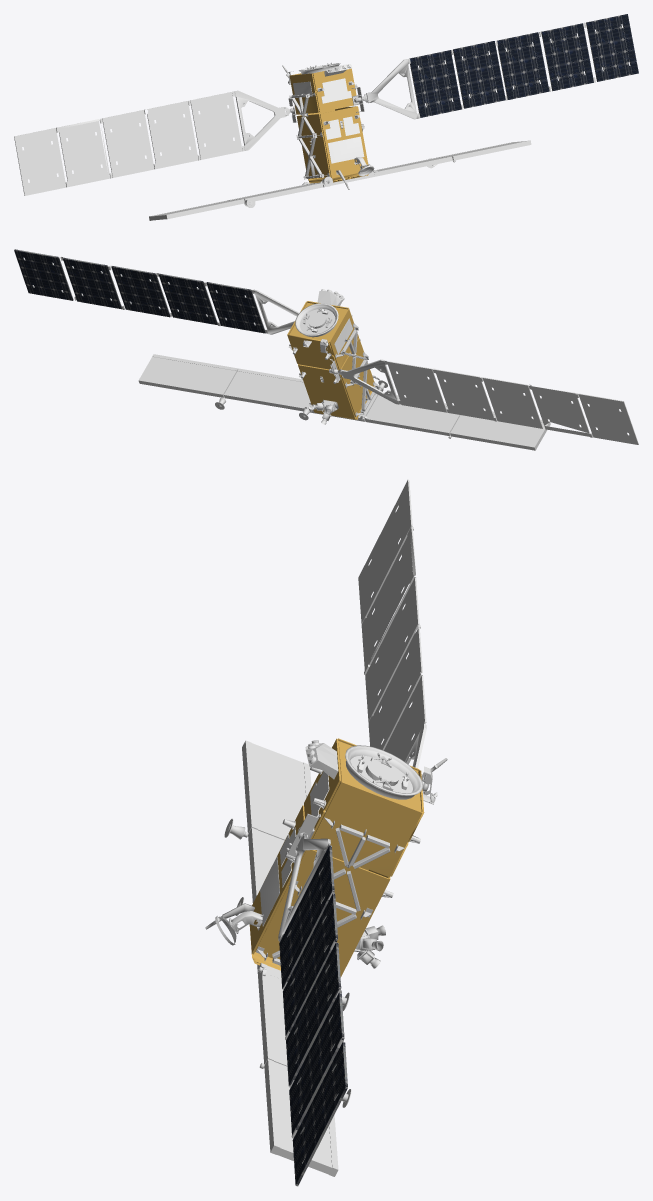
The model's file is sentinel.glb.
The picture shows the model from 3 angles, top to bottom: view 1: azimuth 30°, elevation 25°; view 2: azimuth 150°, elevation 25°; view 3: azimuth 270°, elevation 25°; orthographic projection. The views are drawn at different scales.
Parts seen in each view (by area): view 1: PANEL.002, PANEL.001, HUSK, S1, OUTSIDE PANELS, SAT RIBS; view 2: PANEL.001, PANEL.002, S1, HUSK, PLATE.001, SAT RIBS, TRI CAM, SOLAR DETECTOR; view 3: PANEL.002, PANEL.001, HUSK, S1, PLATE.001, SAT RIBS, OUTSIDE PANELS.
Part boxes in pixels (x1,y1,x2,y2): PANEL.002: (354,14,638,119); PANEL.001: (14,90,293,195); HUSK: (289,68,368,183); S1: (149,140,531,220); OUTSIDE PANELS: (293,78,364,163); SAT RIBS: (289,84,370,179); PANEL.001: (329,359,638,444); PANEL.002: (14,249,298,334); S1: (138,354,550,450); HUSK: (287,301,374,419); PLATE.001: (295,303,338,337); SAT RIBS: (289,323,378,416); TRI CAM: (312,399,338,424); SOLAR DETECTOR: (317,289,344,306); PANEL.002: (278,827,347,1186); PANEL.001: (358,479,426,768); HUSK: (249,738,424,977); S1: (224,740,351,1176); PLATE.001: (345,745,422,799); SAT RIBS: (256,817,404,965); OUTSIDE PANELS: (260,771,329,926).
Bounding box in the file's own units: 569 × 120 × 99.64.
Materials: 5 (1 with a texture image).
